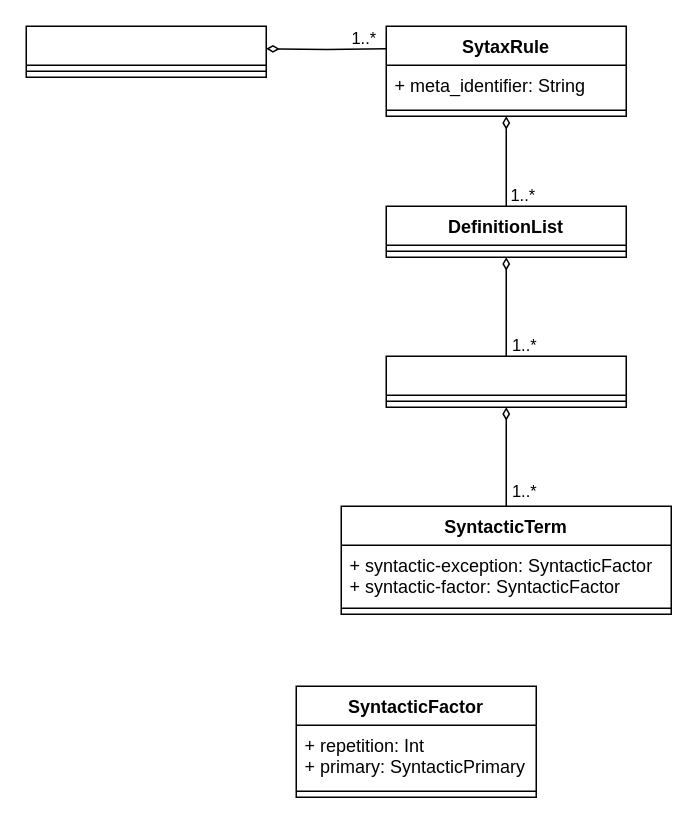
This 698x824 diagram has some shape labels left out. The shapes that lost their labels are listed below. From the top down, each one's centre as x and y in pixels, then its label:
the point at 145,51: Syntax
the point at 505,381: SingleDefinition
